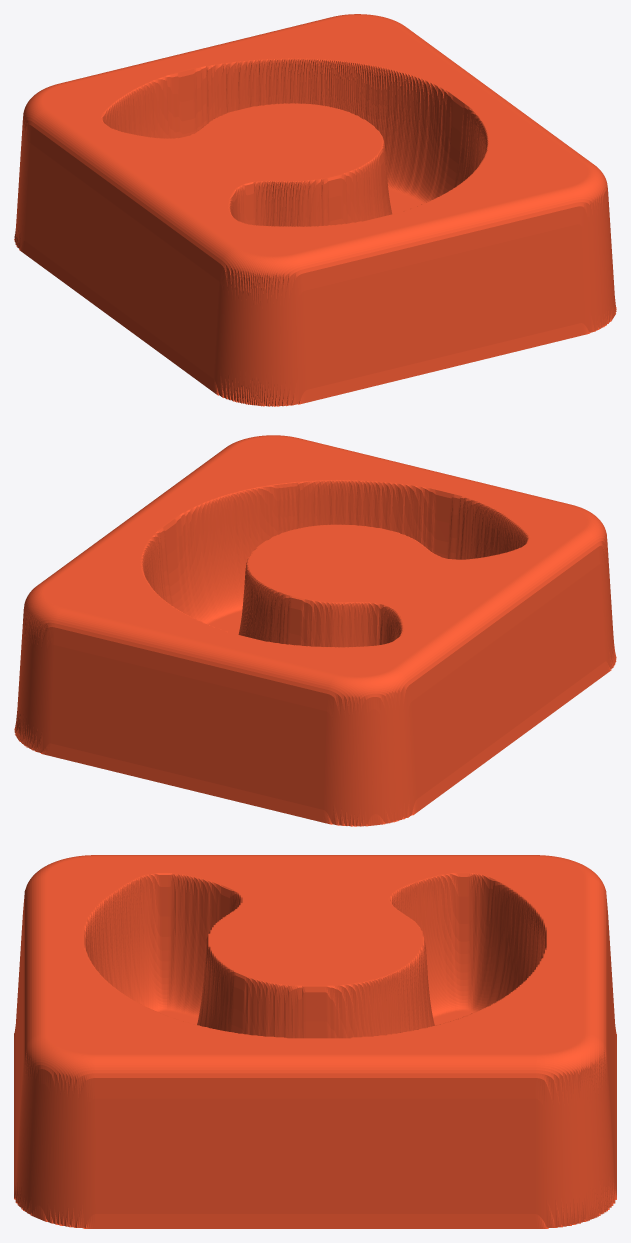
Rendered from mold.glb.
3 views of the same model, one above another, from view 1: azimuth 30°, elevation 25°; view 2: azimuth 150°, elevation 25°; view 3: azimuth 270°, elevation 25° (orthographic). The views are drawn at different scales.
Parts seen in each view (by area): view 1: geometry_0; view 2: geometry_0; view 3: geometry_0.
Part boxes in pixels (x1=…): geometry_0: x1=14, y1=14, x2=616, y2=406; geometry_0: x1=14, y1=435, x2=616, y2=826; geometry_0: x1=14, y1=855, x2=616, y2=1228.
Bounding box in the file's own units: 0.059 × 0.0197 × 0.067.
